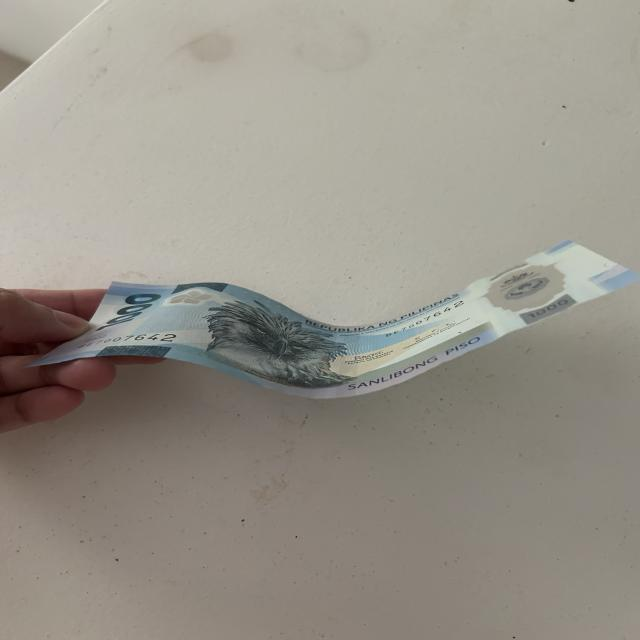clear_window: (476, 252, 594, 337)
eagle: (204, 301, 345, 378)
sampaguita: (160, 288, 218, 313)
security_thread: (326, 321, 364, 398)
value: (86, 285, 167, 333)
